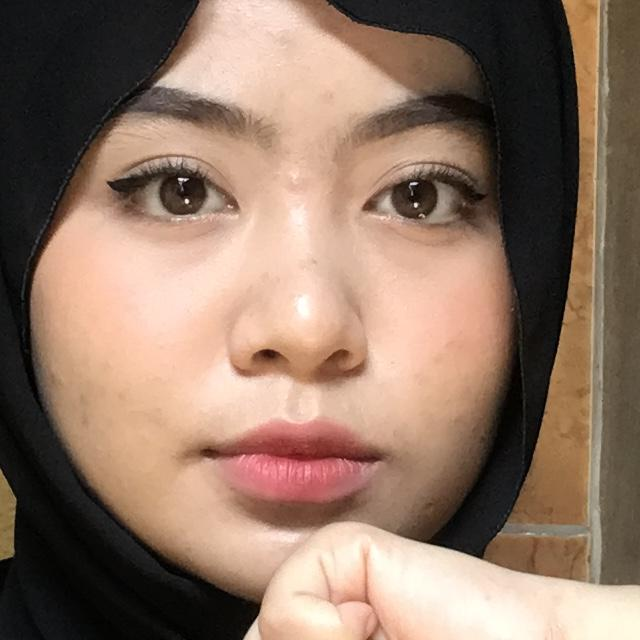sedih: (40, 396, 640, 640)
